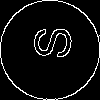S: (25, 25, 72, 60)
